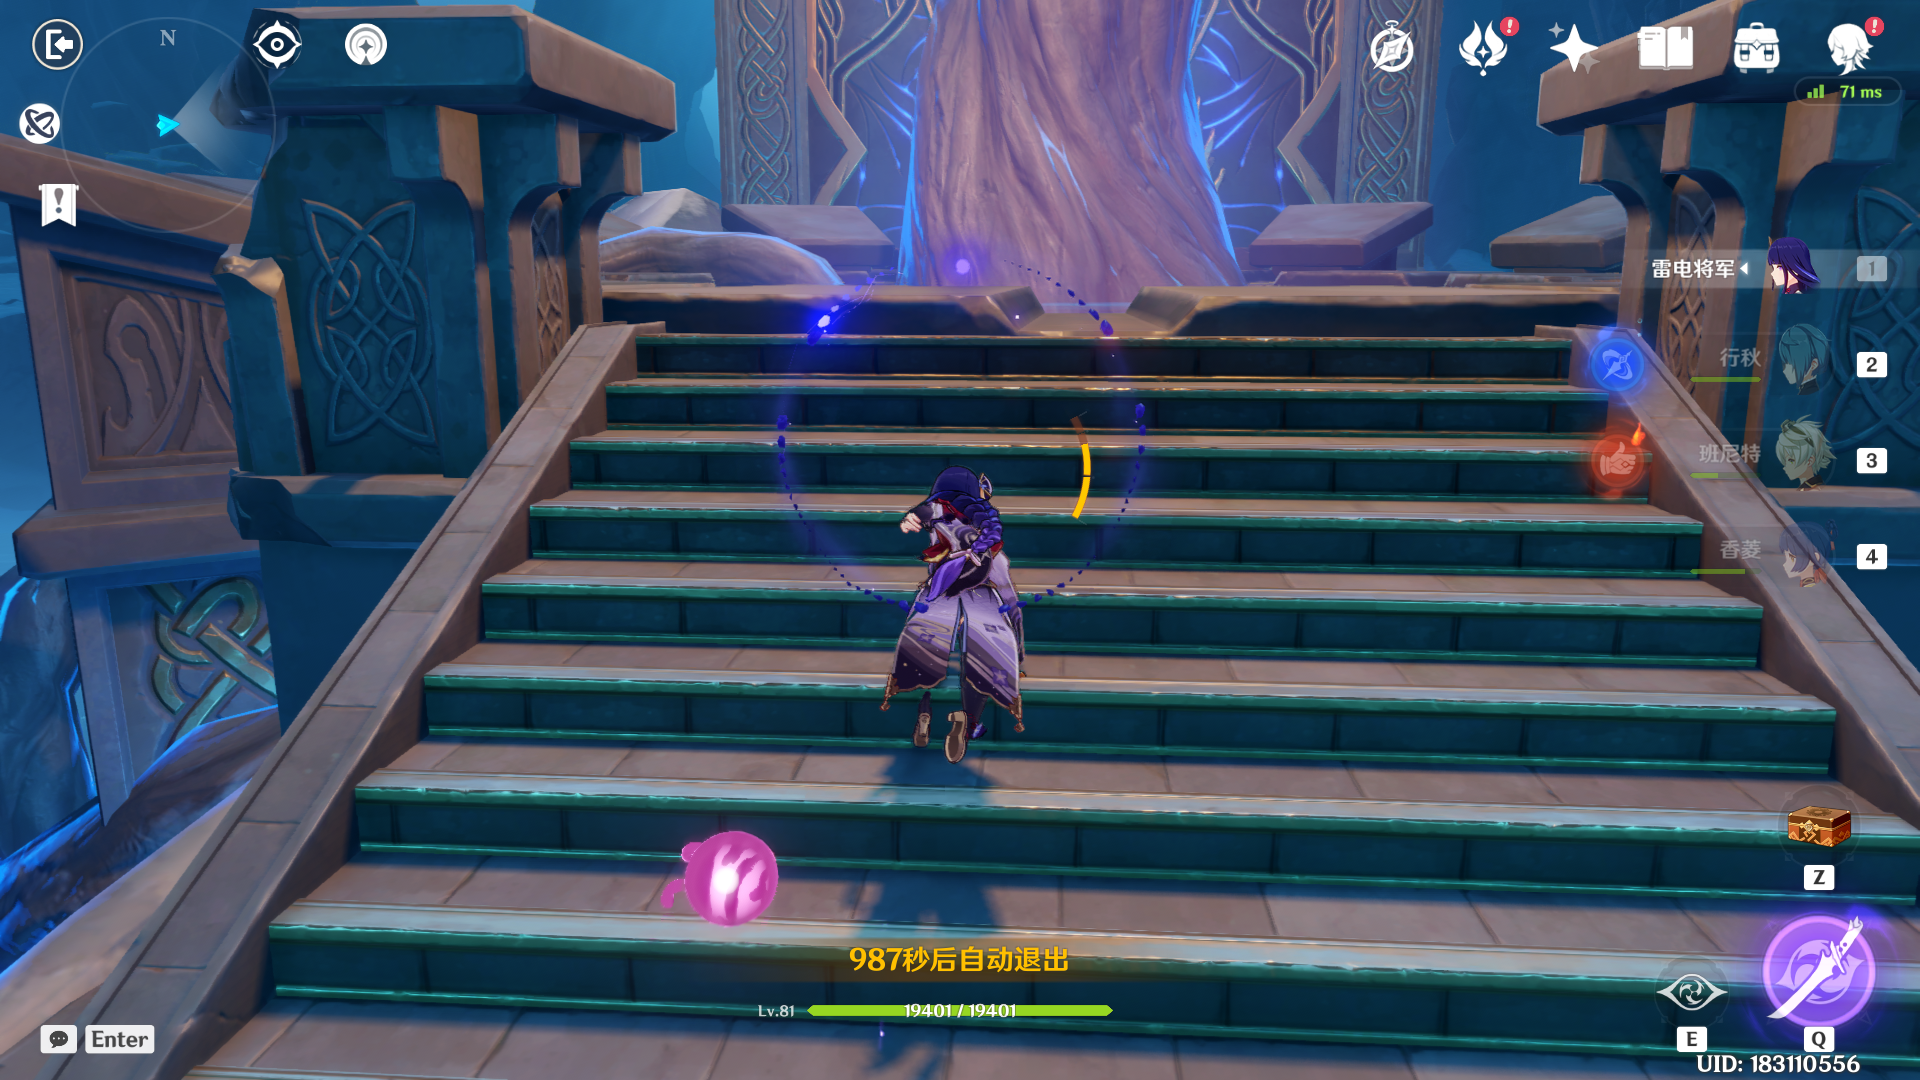character: (829, 454, 1068, 807)
